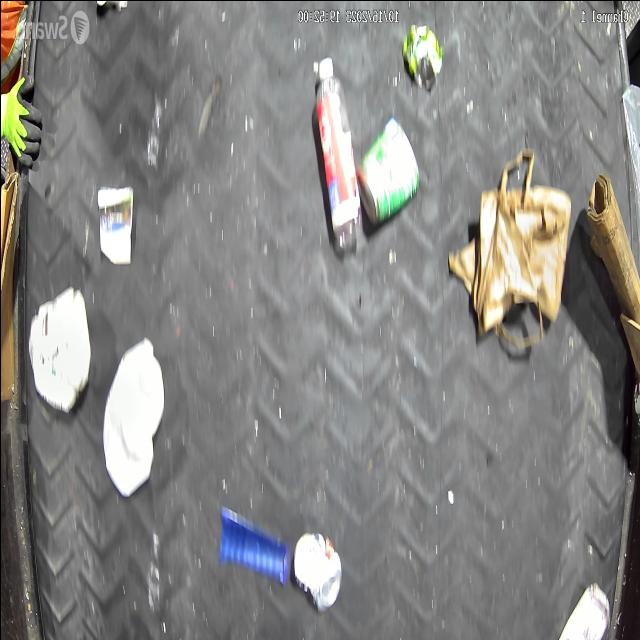can: (354, 116, 419, 225), (292, 524, 342, 612), (402, 20, 442, 92)
milk_jug: (102, 334, 164, 502)
plastic_bottle: (312, 57, 361, 253)
